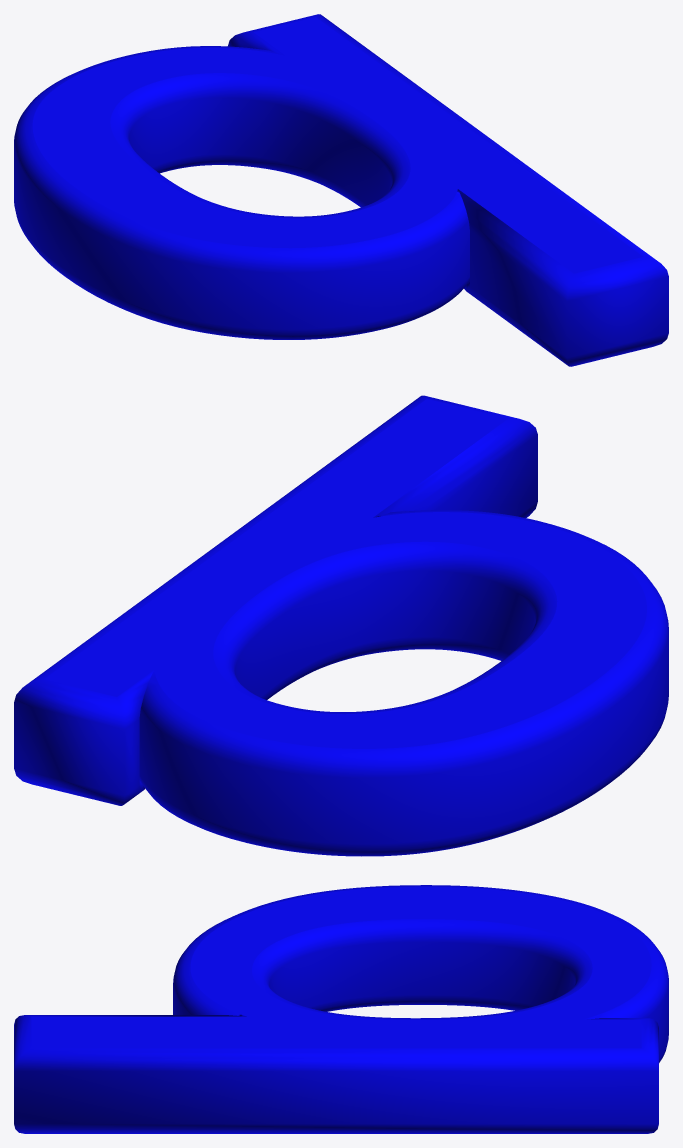
3 views of the same model, one above another, from view 1: azimuth 30°, elevation 25°; view 2: azimuth 150°, elevation 25°; view 3: azimuth 270°, elevation 25° (orthographic). The views are drawn at different scales.
Visible parts, largest first — view 1: 113; view 2: 113; view 3: 113.
Part boxes in pixels (x1=…): 113: x1=14, y1=14, x2=668, y2=366; 113: x1=14, y1=395, x2=668, y2=856; 113: x1=14, y1=885, x2=668, y2=1133.
Bounding box in the file's own units: 0.7197 × 0.16 × 1.13.
